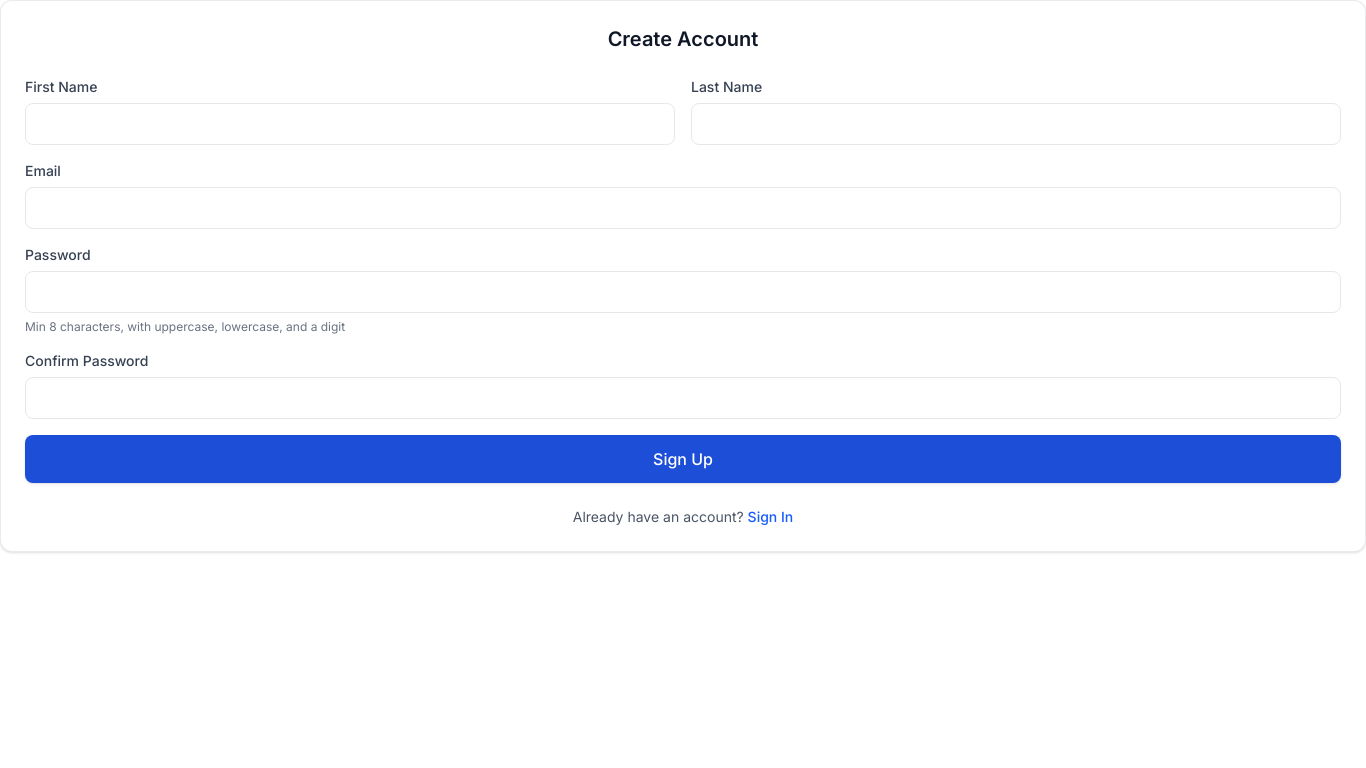
Test case: RegisterPage › validates password match
Type "John" into the field labelled "First Name" at (350, 124), box x1=25 y1=103 x2=675 y2=145
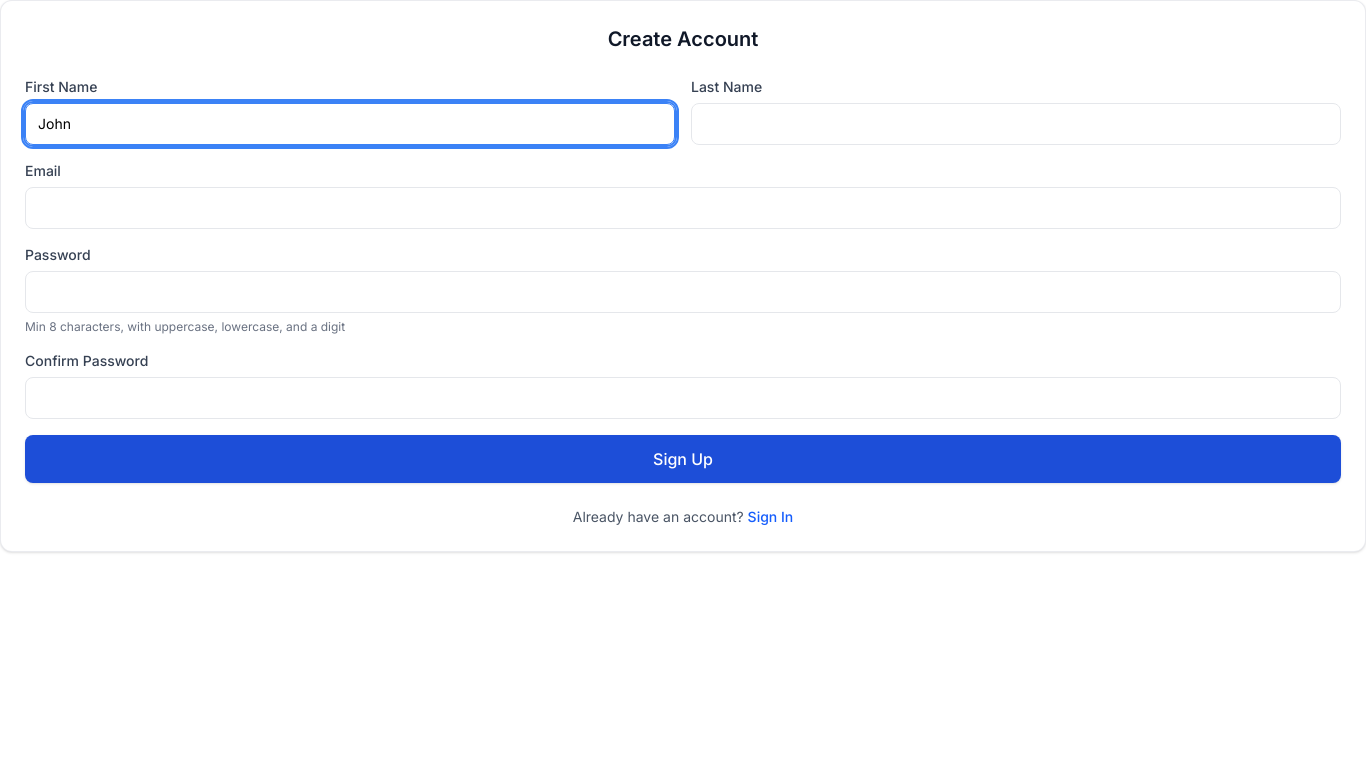
Type "Doe" into the field labelled "Last Name" at (1016, 124), box x1=691 y1=103 x2=1341 y2=145
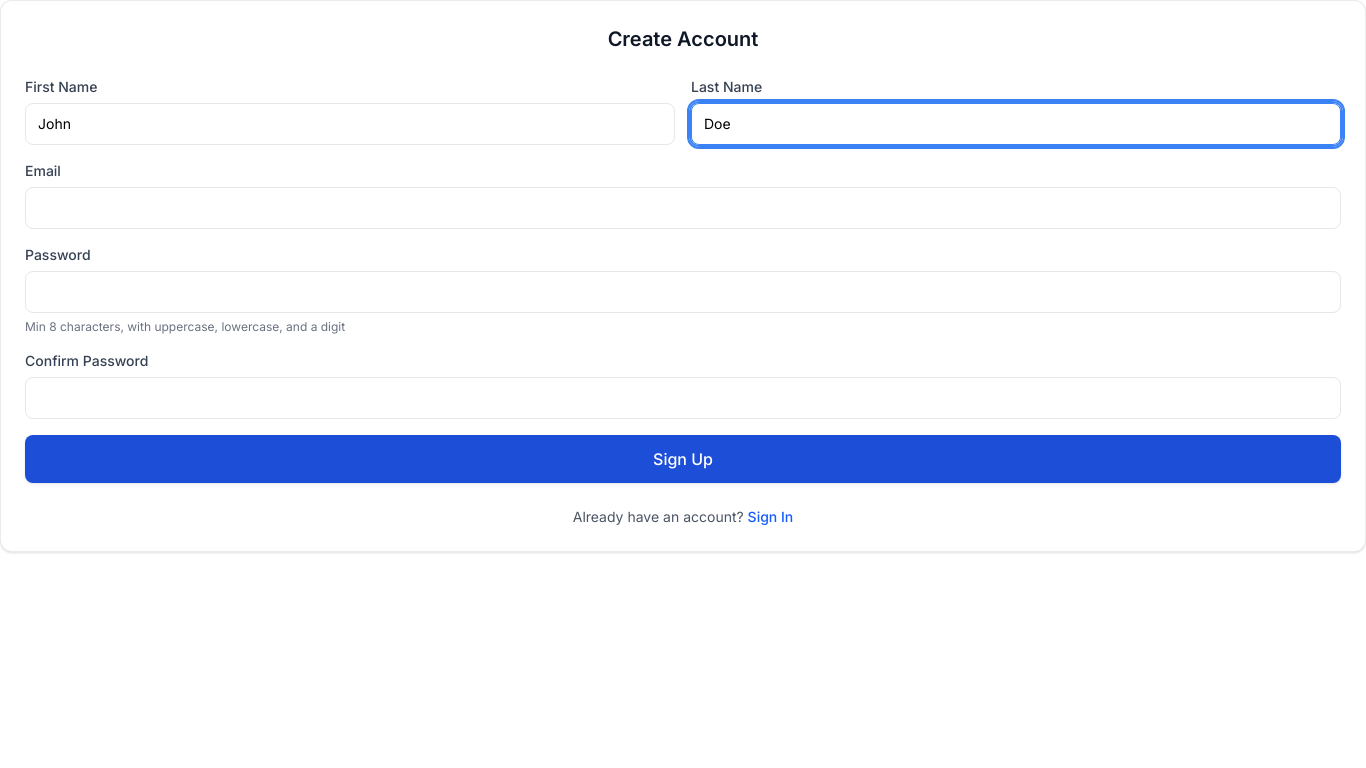
Type "john@example.com" into the field labelled "Email" at (683, 208), box x1=25 y1=187 x2=1341 y2=229
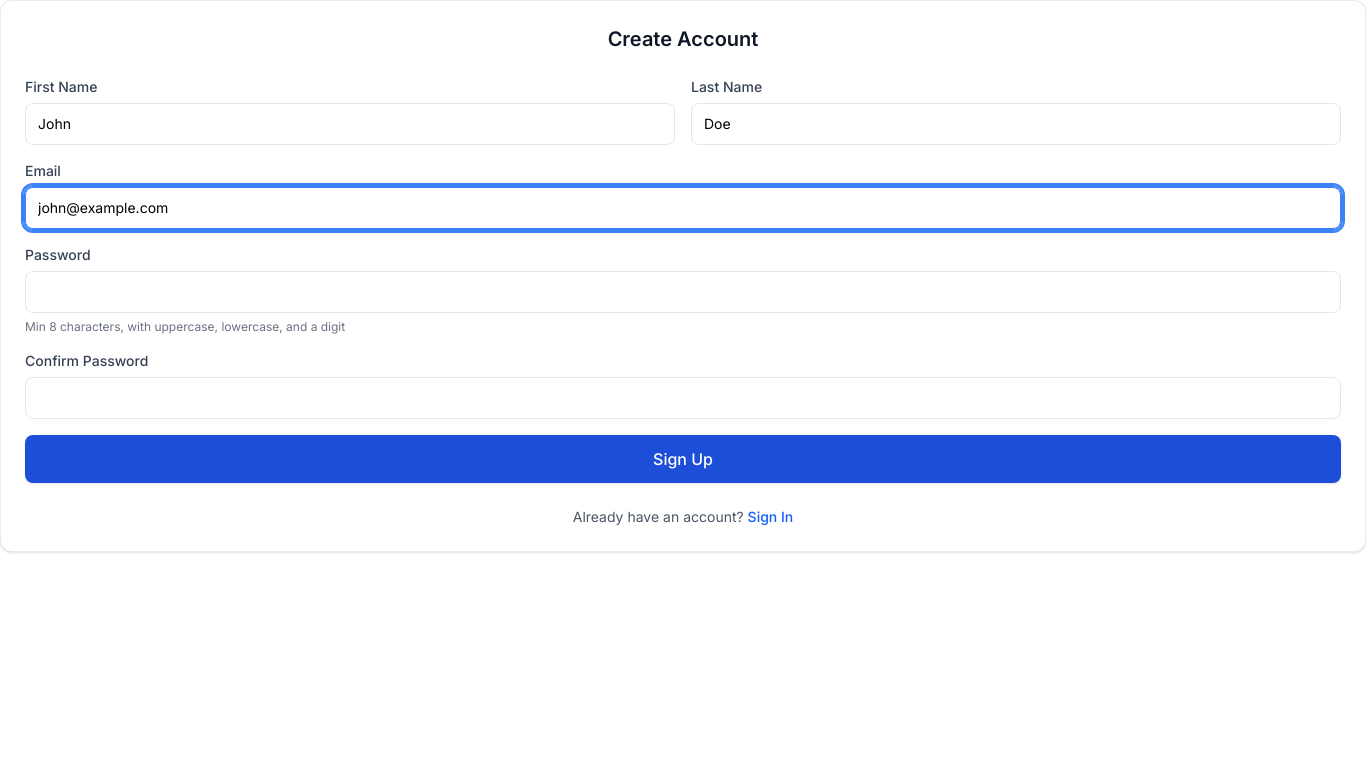
Type "Password1" into the password field labelled "Password" at (683, 292), box x1=25 y1=271 x2=1341 y2=313
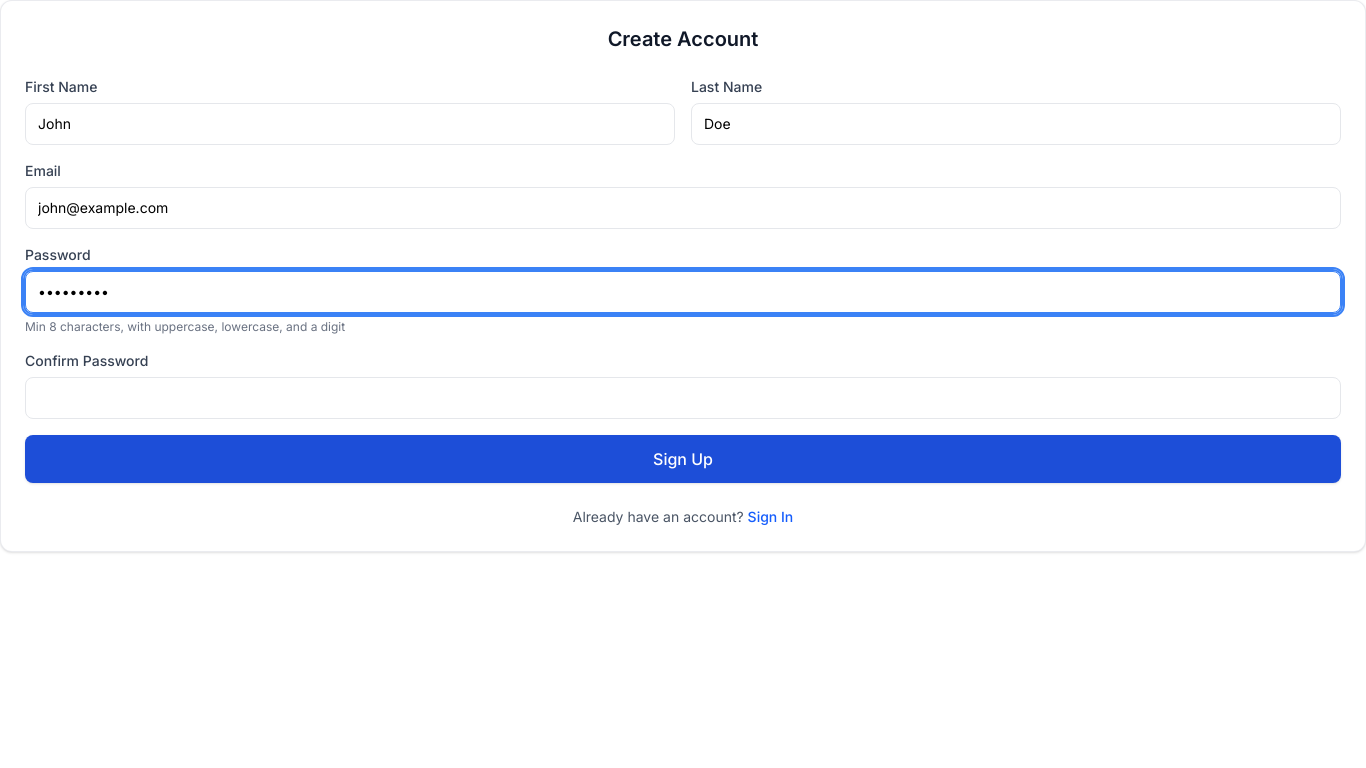
Type "Password2" into the password field labelled "Confirm Password" at (683, 398), box x1=25 y1=377 x2=1341 y2=419
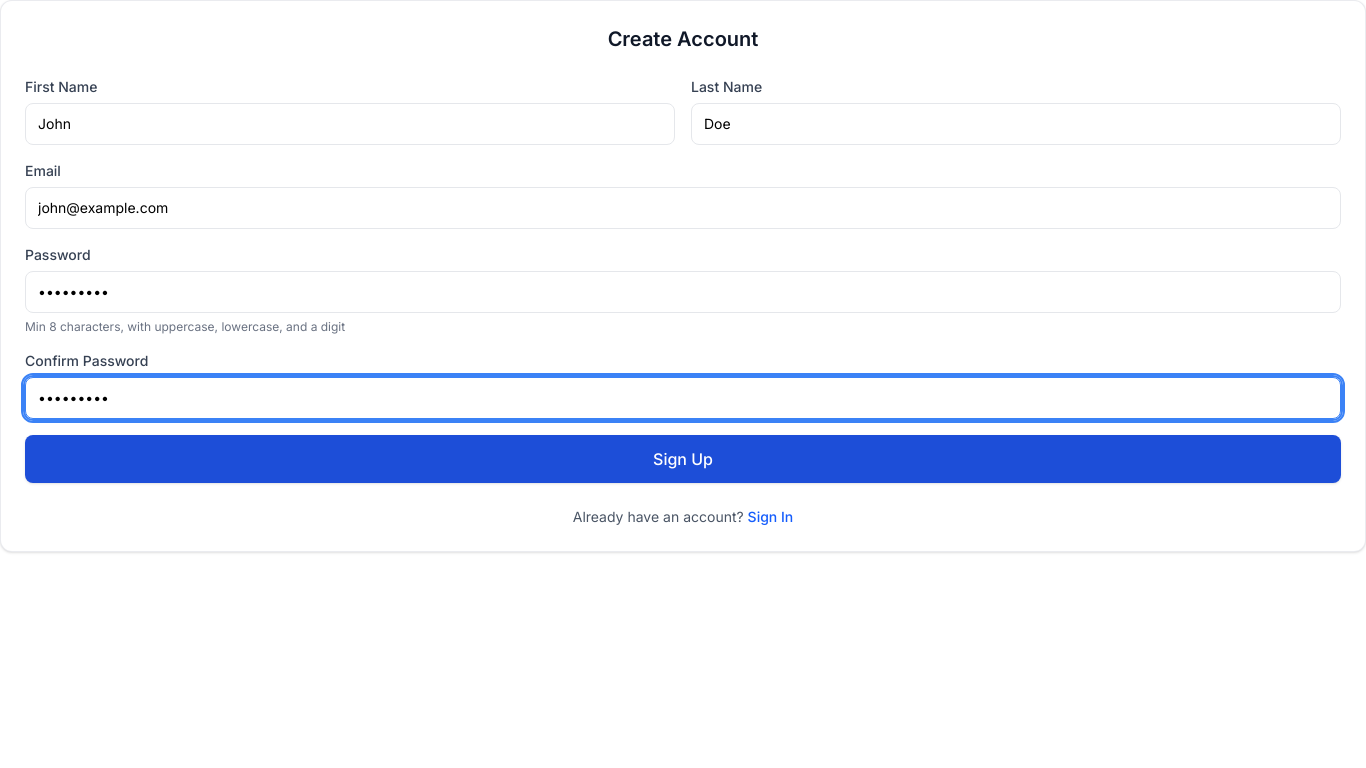
Click the button "Sign Up" at (683, 459), box x1=25 y1=435 x2=1341 y2=483
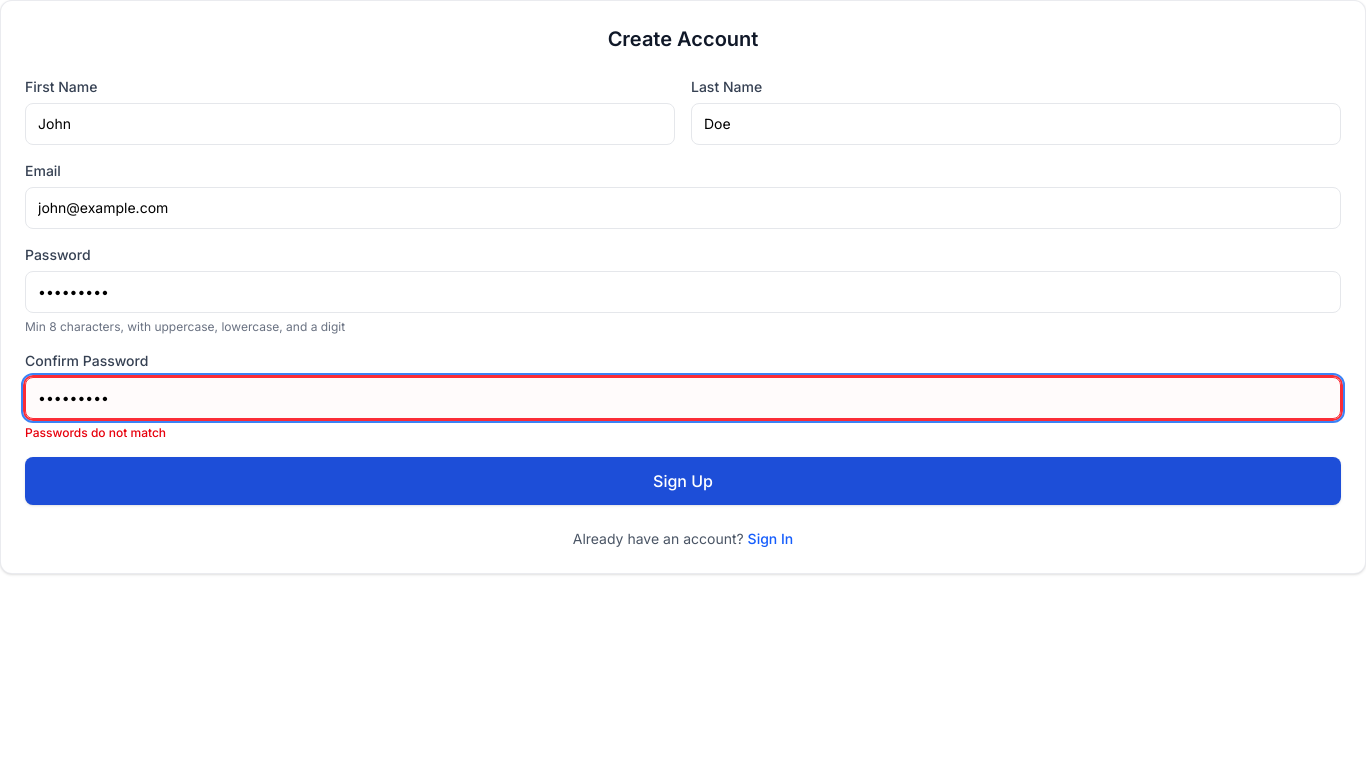
expect the text "Passwords do not match" is shown: met, box x1=25 y1=425 x2=166 y2=440
